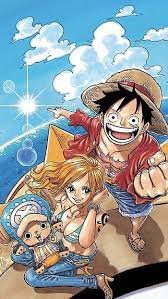chopper: (1, 192, 70, 276)
luffy: (81, 68, 168, 148)
